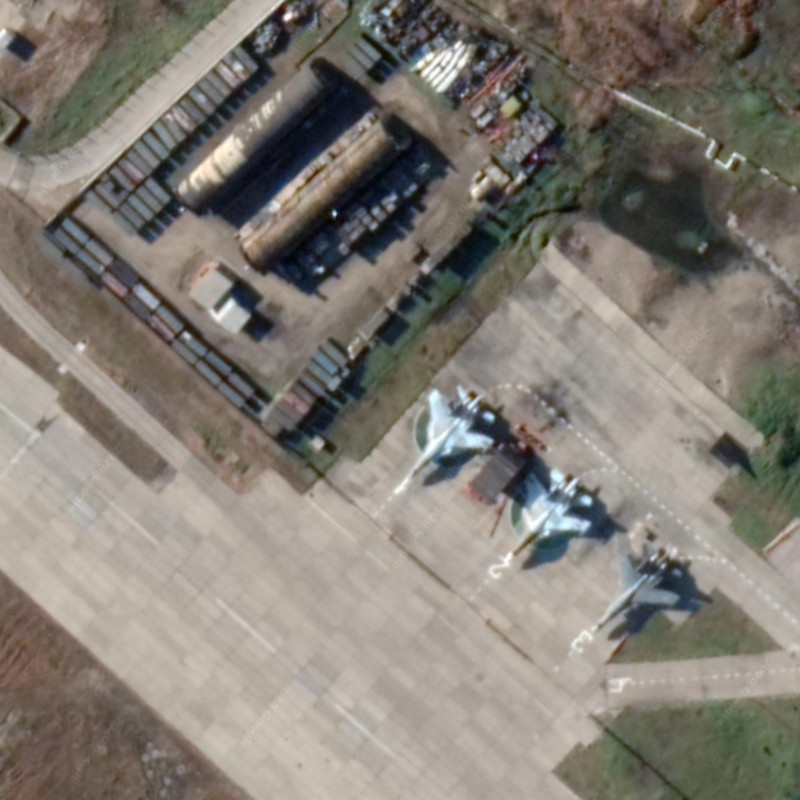A1: (389, 371, 503, 494), (498, 461, 604, 572), (584, 544, 698, 637)
